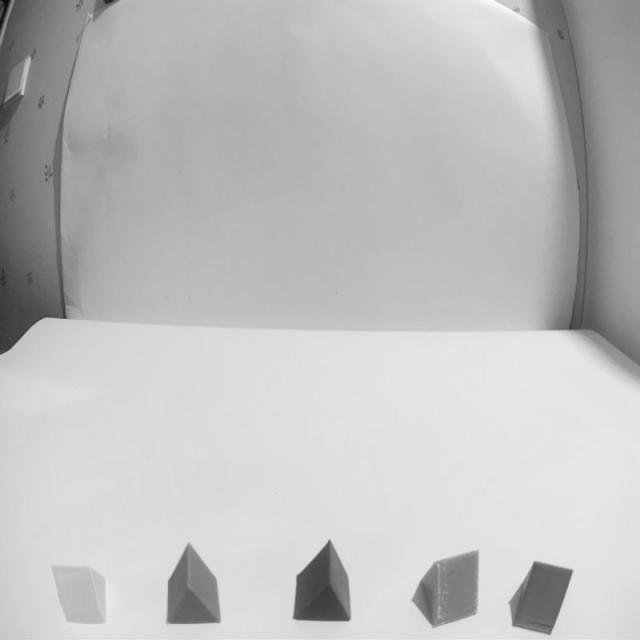triangle: (412, 552, 480, 628), (507, 560, 575, 636), (293, 540, 352, 622), (166, 544, 222, 624), (51, 564, 108, 626)
